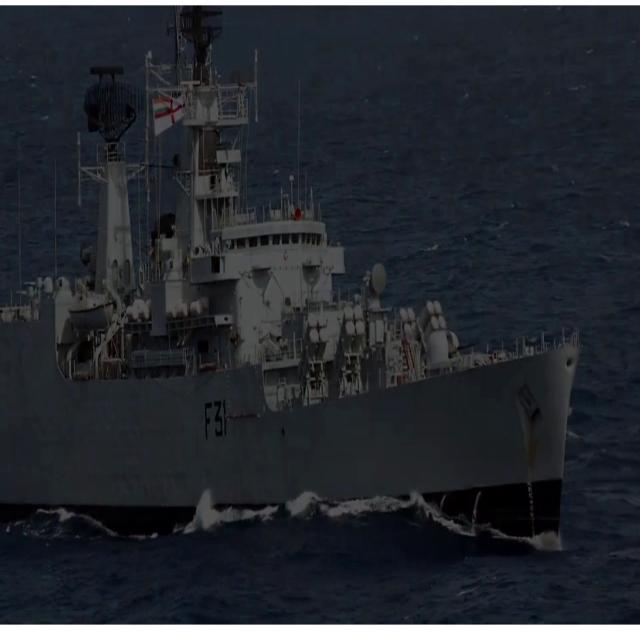OCR: (202, 395, 228, 448)
